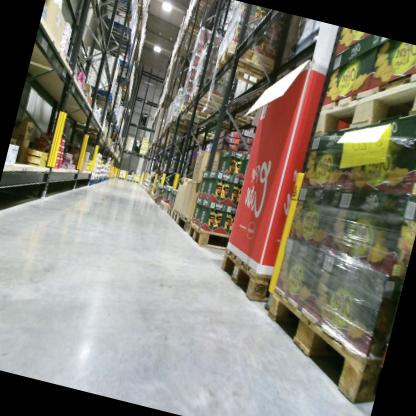pallet: (252, 278, 396, 403), (308, 38, 416, 172), (211, 33, 297, 96), (213, 245, 276, 311), (183, 214, 238, 261), (185, 84, 240, 119), (174, 103, 217, 126), (98, 0, 135, 24), (102, 23, 133, 44), (169, 115, 201, 135), (83, 90, 116, 109), (104, 33, 133, 52), (76, 123, 106, 140), (105, 42, 133, 59), (89, 86, 116, 103), (168, 120, 195, 136), (175, 211, 193, 232), (163, 125, 188, 140), (115, 57, 135, 73), (168, 208, 183, 226), (157, 199, 170, 215), (165, 205, 176, 219), (99, 133, 108, 144), (154, 195, 161, 207), (125, 178, 134, 184), (152, 193, 157, 202), (117, 176, 125, 181), (132, 179, 139, 184)
